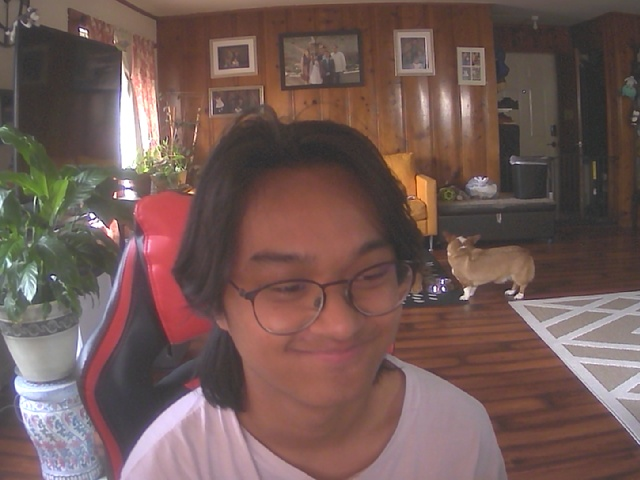happy: (201, 136, 426, 411)
